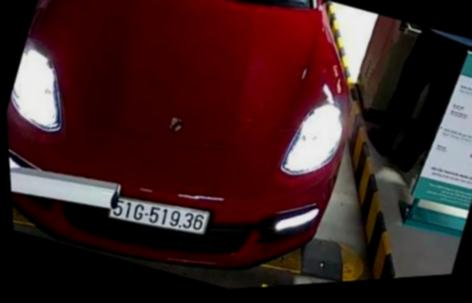License_Plate: (104, 186, 216, 245)
